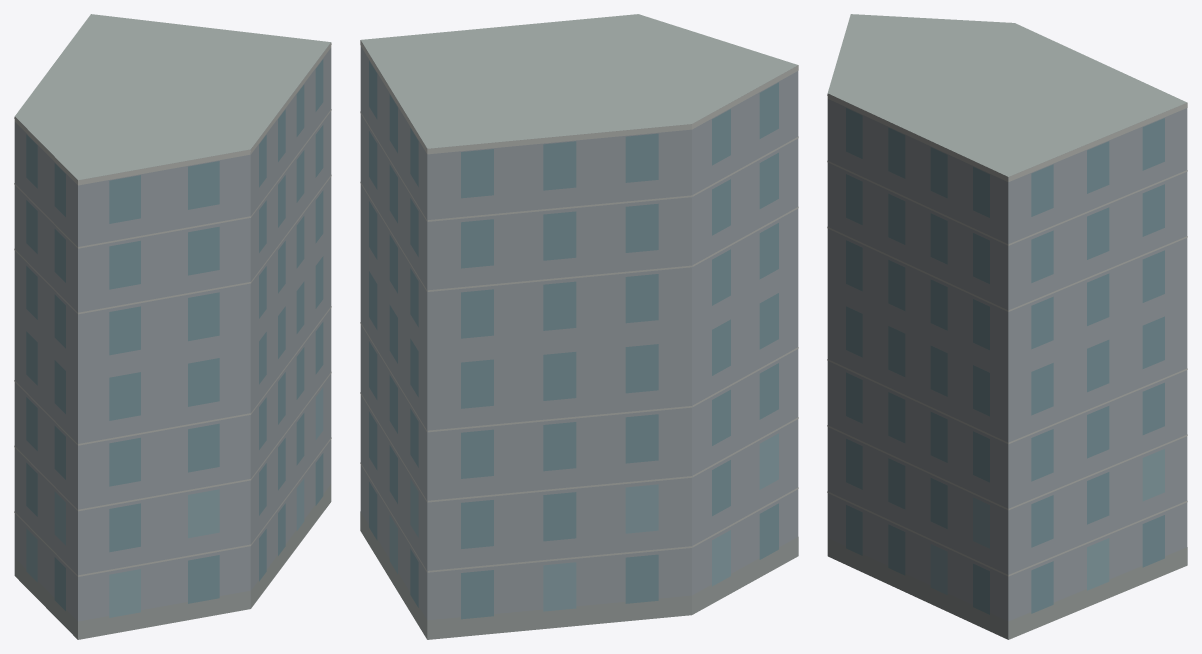
Rendered from residential-0f672832-d3b7-47ea-8b2b-15743193951f.glb.
The picture shows the model from 3 angles, left to right: view 1: azimuth 30°, elevation 25°; view 2: azimuth 150°, elevation 25°; view 3: azimuth 270°, elevation 25°; orthographic projection. The views are drawn at different scales.
Parts seen in each view (by area): view 1: residential-0f672832-d3b7-47ea-8b2b-15743193951f.tmp; view 2: residential-0f672832-d3b7-47ea-8b2b-15743193951f.tmp; view 3: residential-0f672832-d3b7-47ea-8b2b-15743193951f.tmp.
Boxes of the visible parts, x1,y1,x2,y2 form: residential-0f672832-d3b7-47ea-8b2b-15743193951f.tmp: (14, 14, 331, 639); residential-0f672832-d3b7-47ea-8b2b-15743193951f.tmp: (360, 14, 798, 639); residential-0f672832-d3b7-47ea-8b2b-15743193951f.tmp: (827, 14, 1187, 639).
Bounding box in the file's own units: 16.14 × 21.35 × 15.06.
